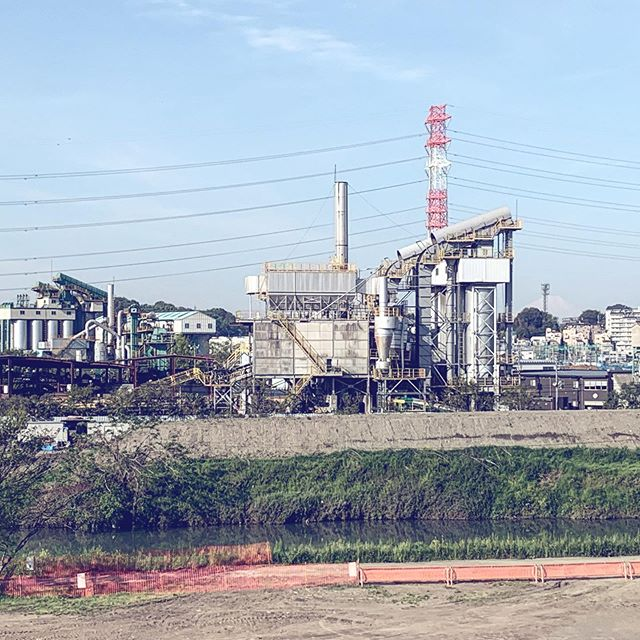building: (237, 205, 517, 417), (1, 277, 241, 419), (526, 290, 640, 398)
river: (10, 473, 628, 576)
sky: (1, 1, 640, 279)
